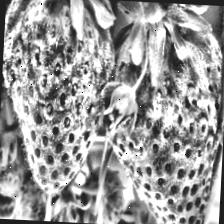Powdery Mildew Fruit: (97, 0, 224, 224), (0, 0, 120, 198)
